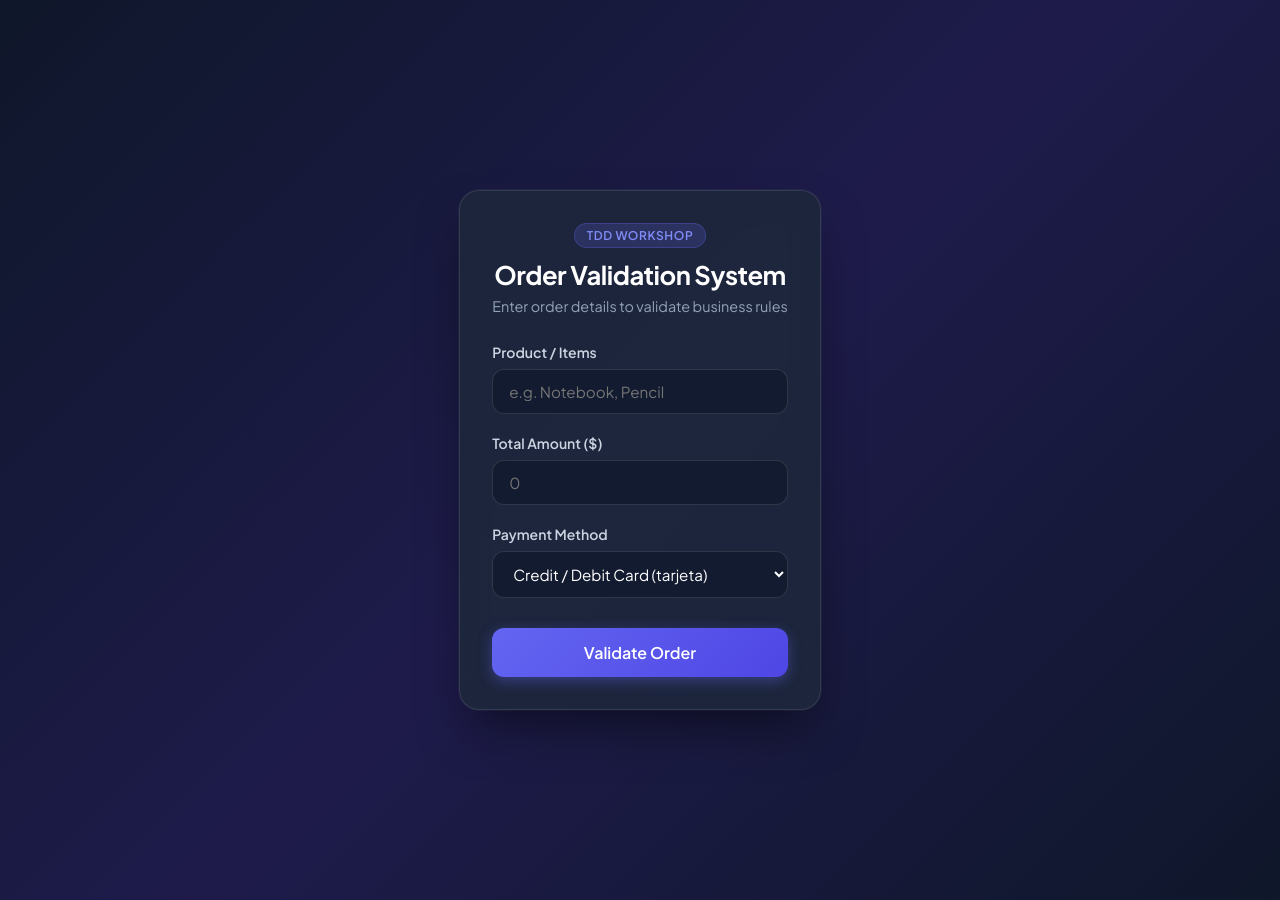
OrderForm - Frontend TDD Tests › Rule 4: displays success message when order is completely valid
The image size is (1280, 900).
In the field labelled "Product / Items": (640, 392) [492,369,788,414], type "cuaderno, lapicero"
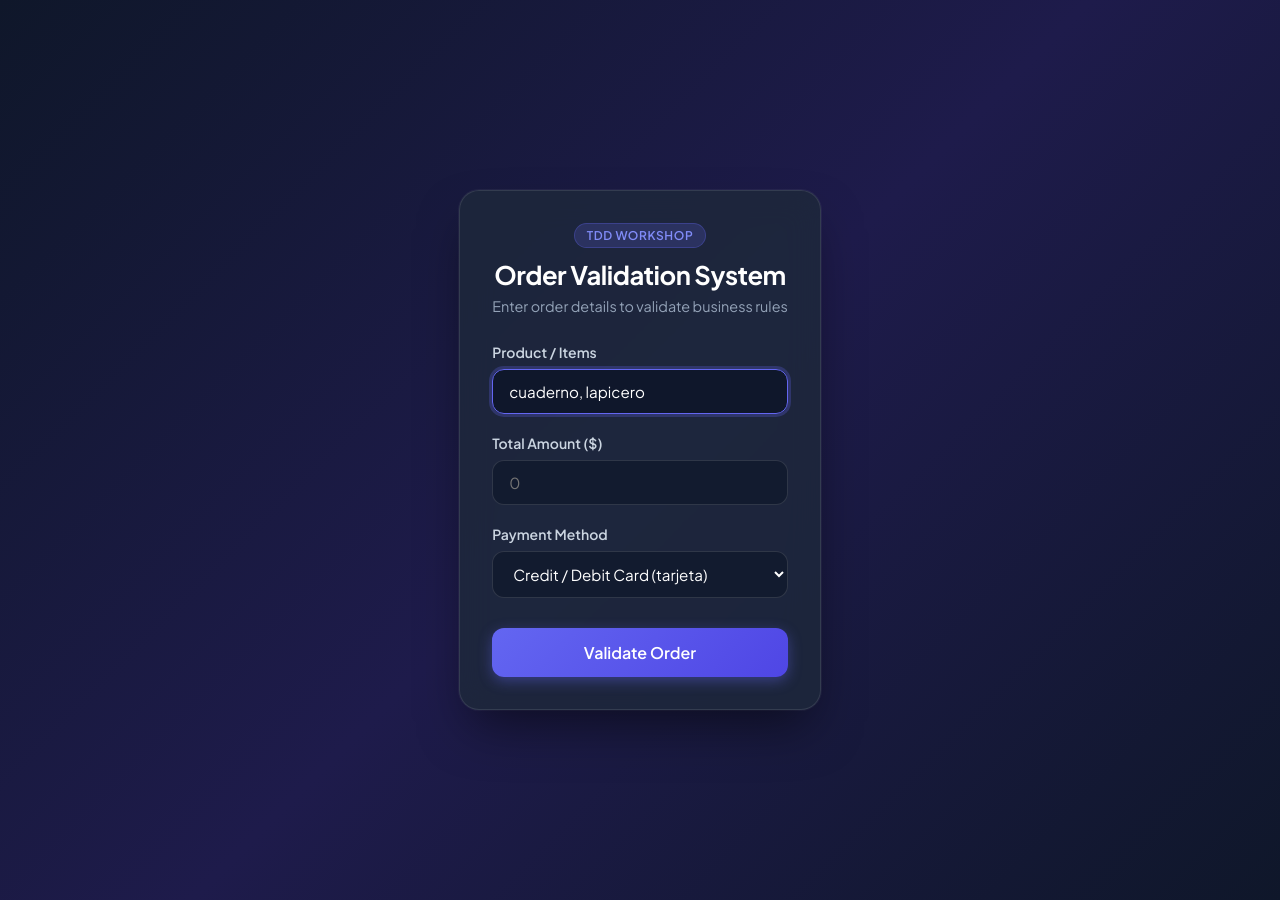
In the number field labelled "Total Amount ($)": (640, 482) [492,460,788,505], type "45000"
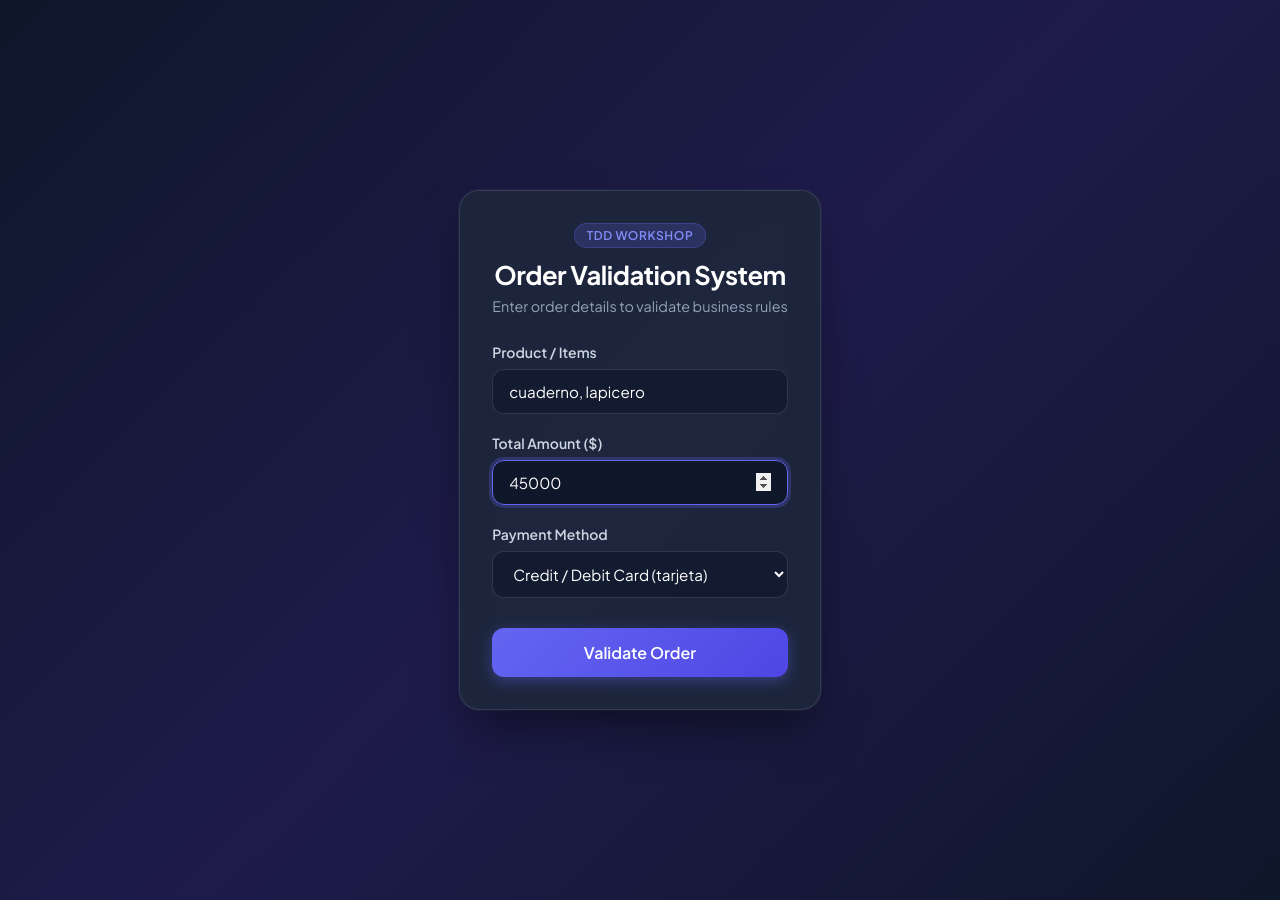
Select "Credit / Debit Card (tarjeta)" in the dropdown labelled "Payment Method": (640, 574) [492,551,788,598]
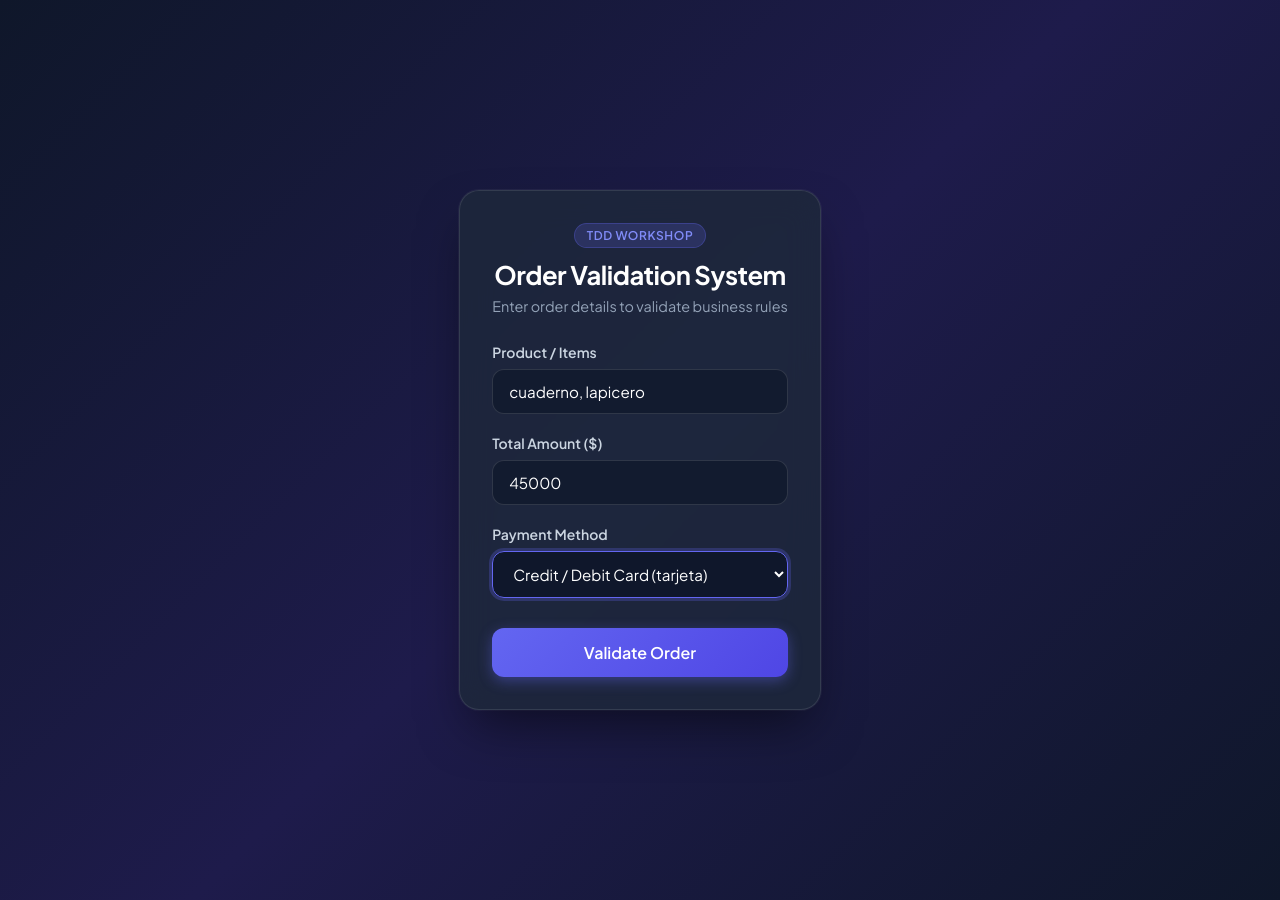
Click the button "Validate Order": (640, 652) [492,628,788,677]
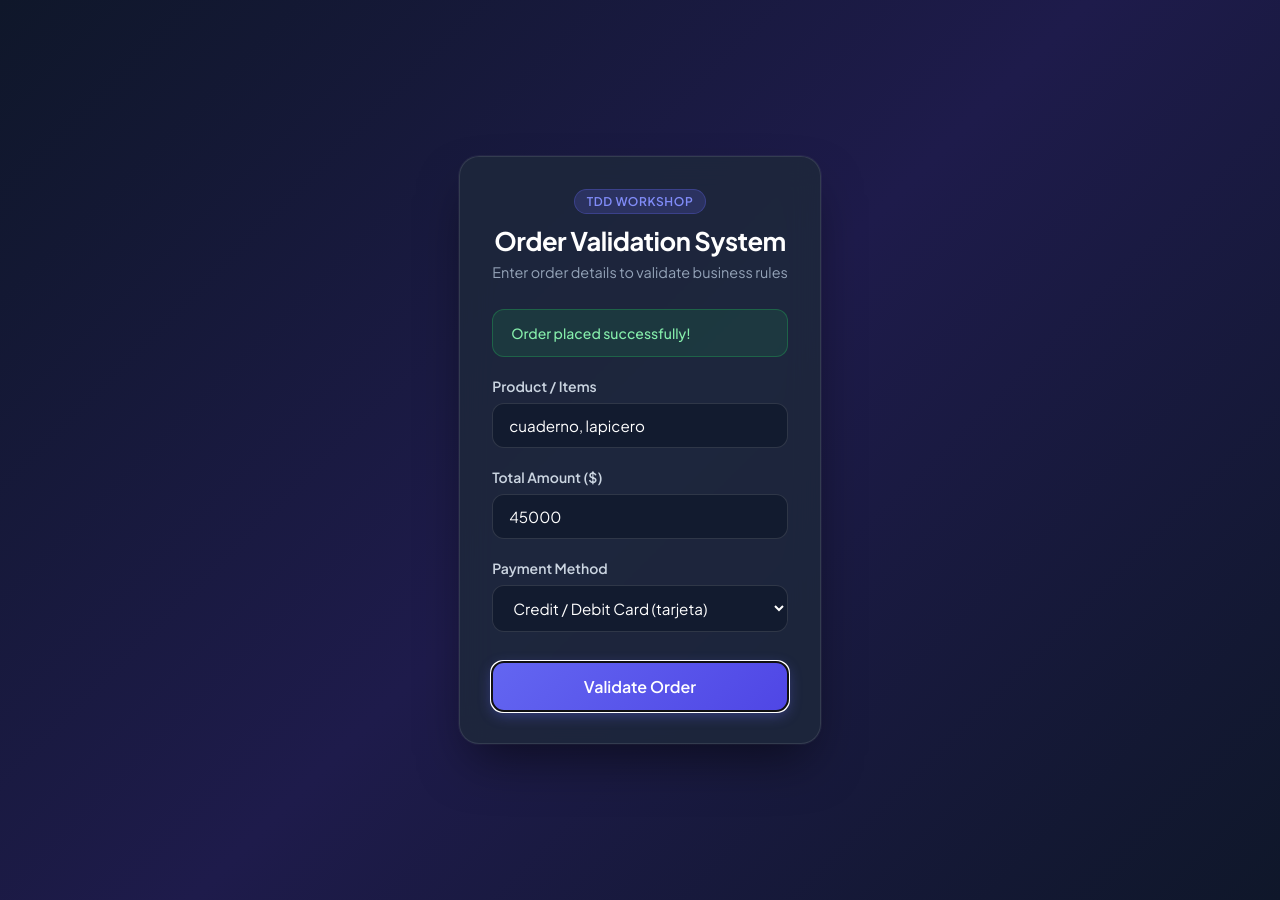
Expected: the message reads "Order placed successfully!", [511,324,691,342]
